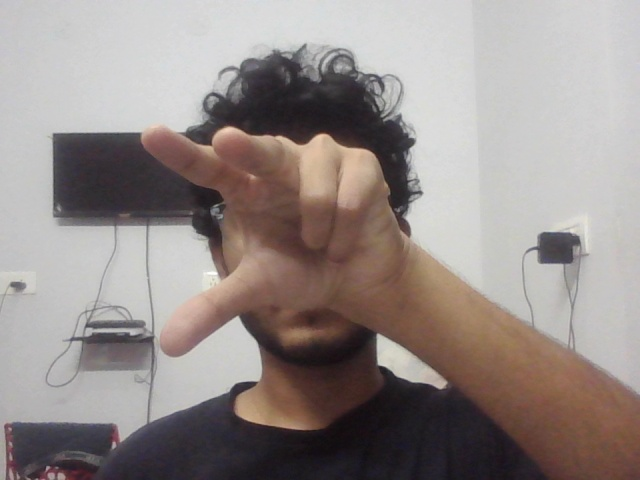No: (132, 105, 414, 365)
